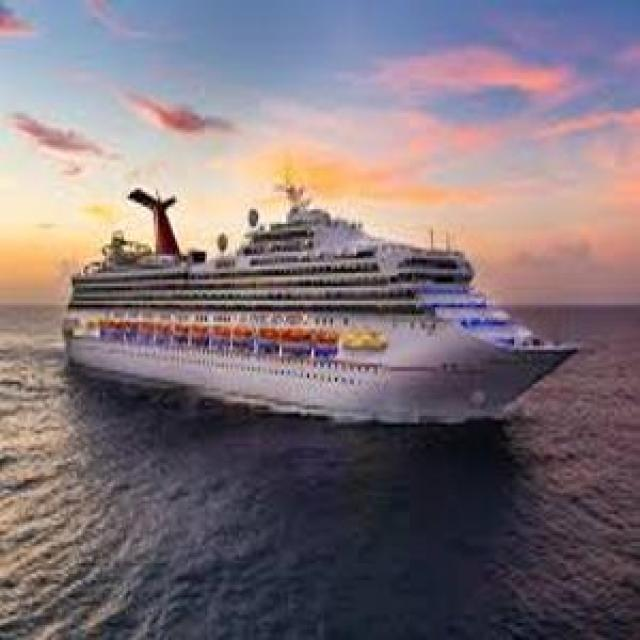passenger ship: (51, 170, 570, 427)
